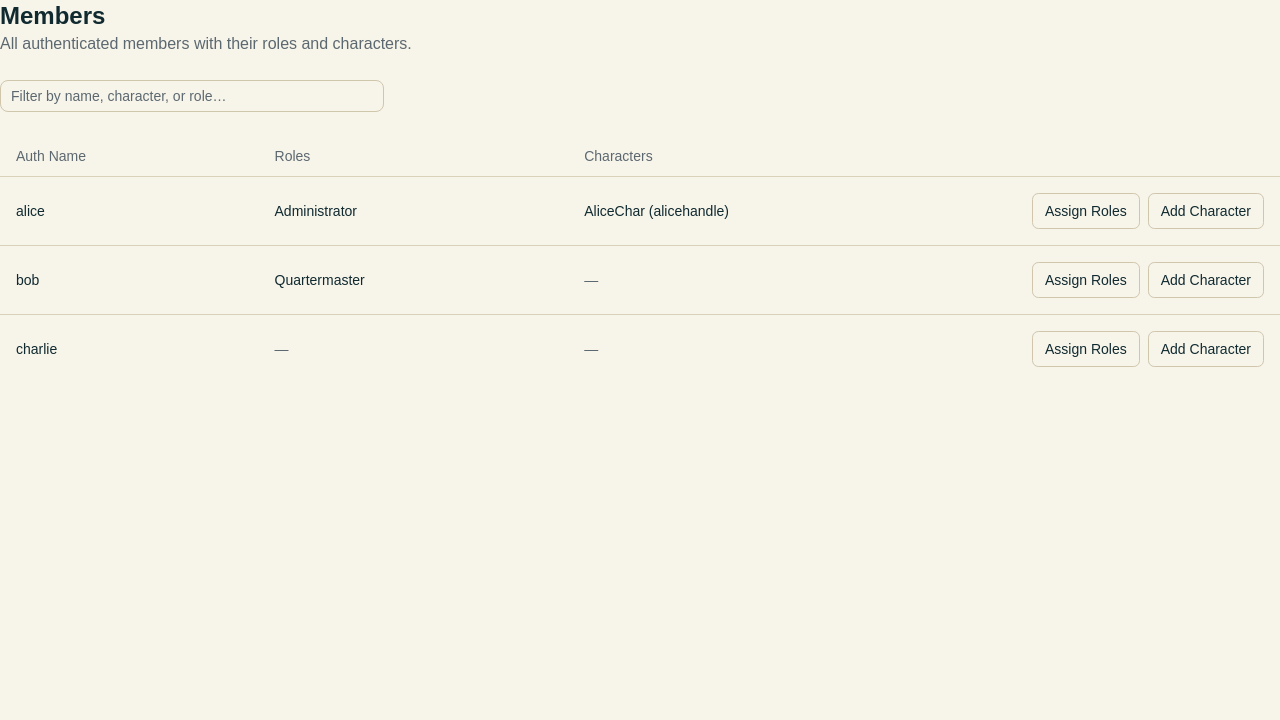
Test: AdminUsersPage — Add Character dialog › closes dialog after successful add
Expected: the text "alice" is shown, [0,176,258,245]
Click the button "Add Character" in the row of "Administrator".
click(1206, 210)  # box [1148,192,1264,228]
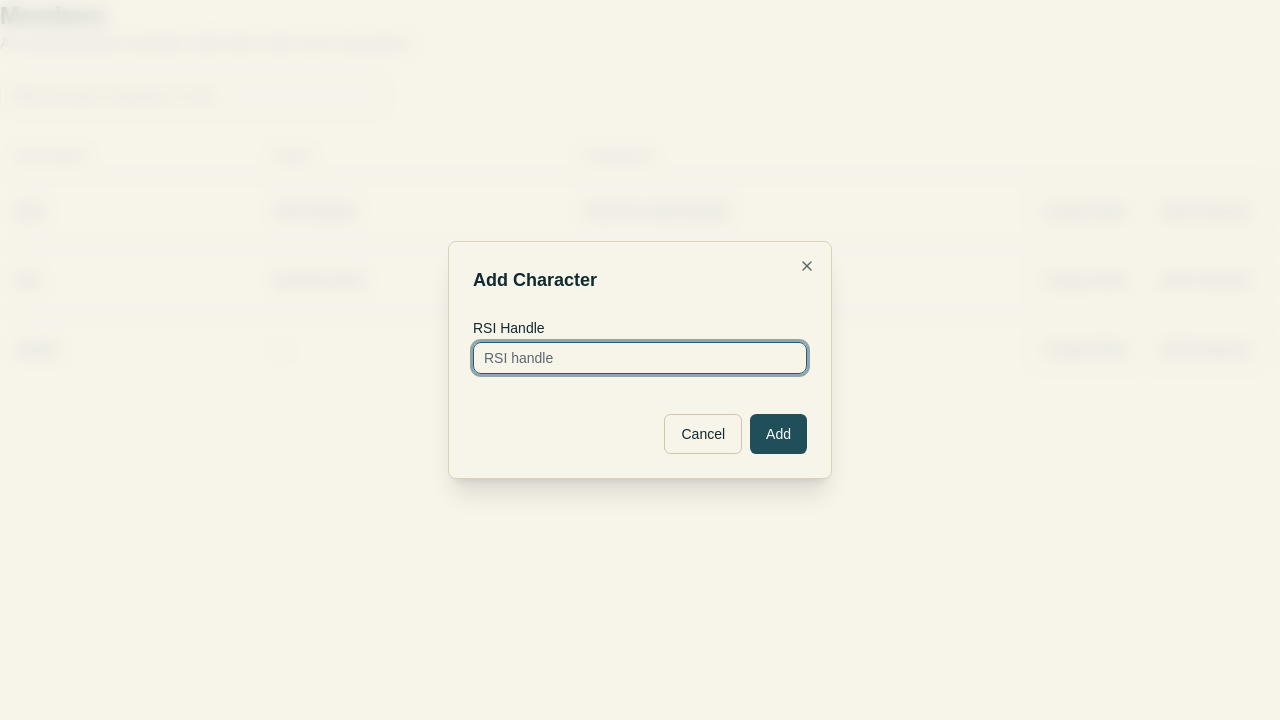
Type "newcharhandle" into the field with placeholder "RSI Handle".
click(640, 358); type("newcharhandle")  # box [473,342,807,374]
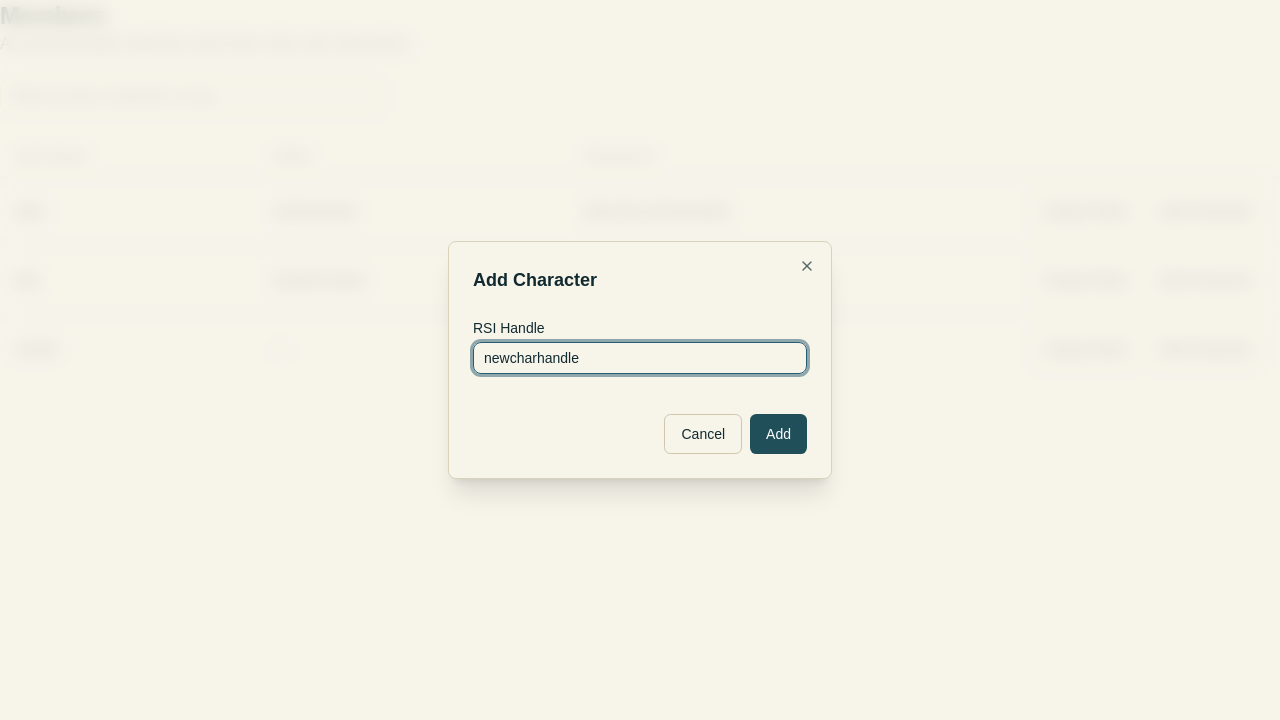
Click the button "Add".
click(779, 434)  # box [750,414,807,454]
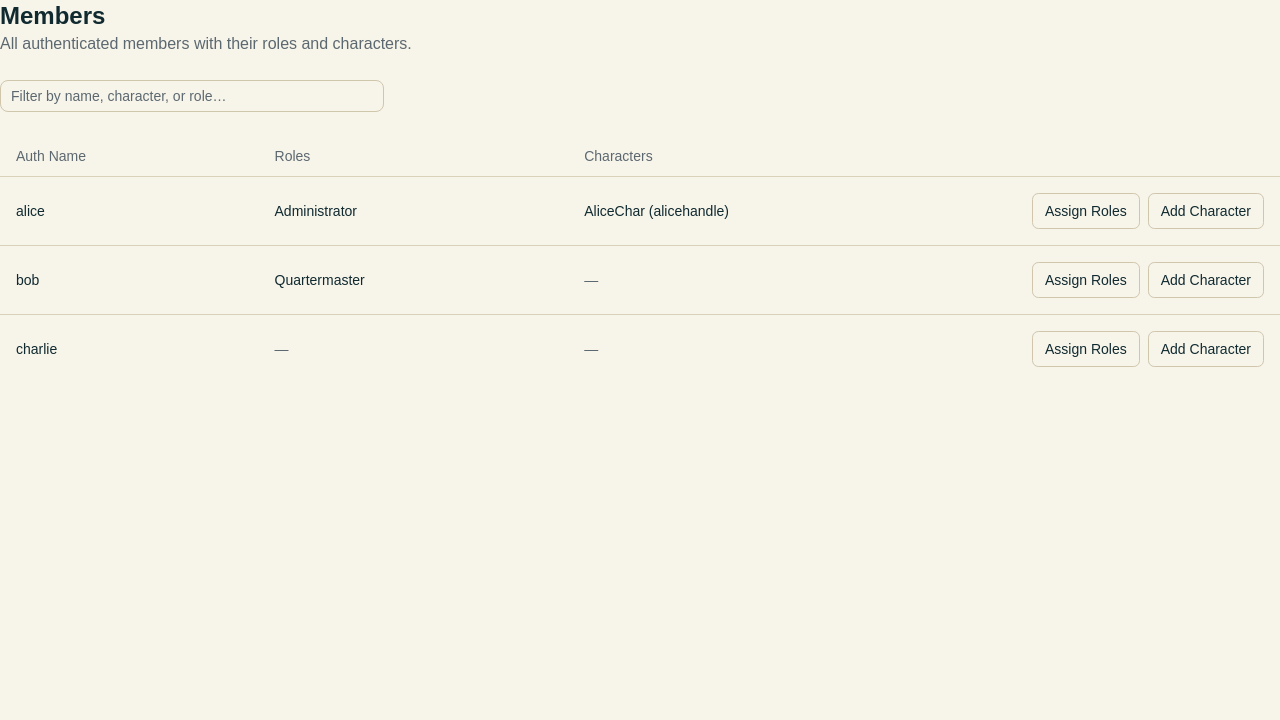
Now the label with placeholder "RSI Handle" is gone
